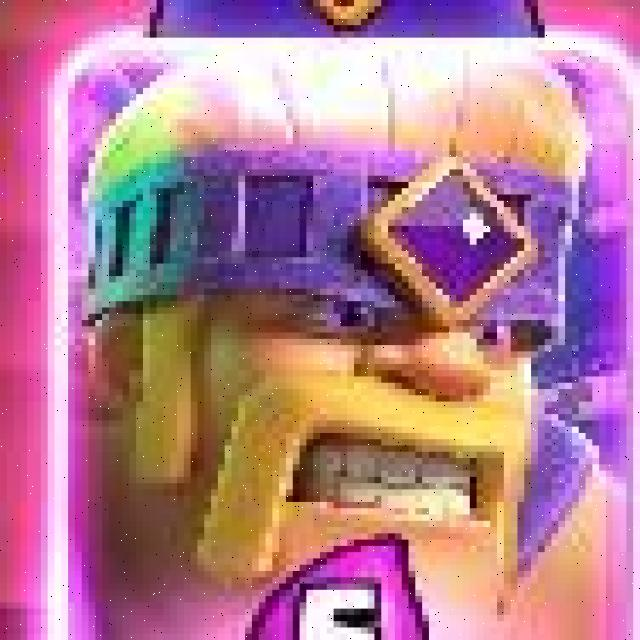Evolved_Barbarians: (43, 28, 640, 640)
